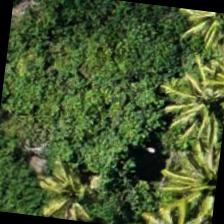Kelapa_Sawit: (164, 128, 223, 223), (166, 49, 223, 146)
